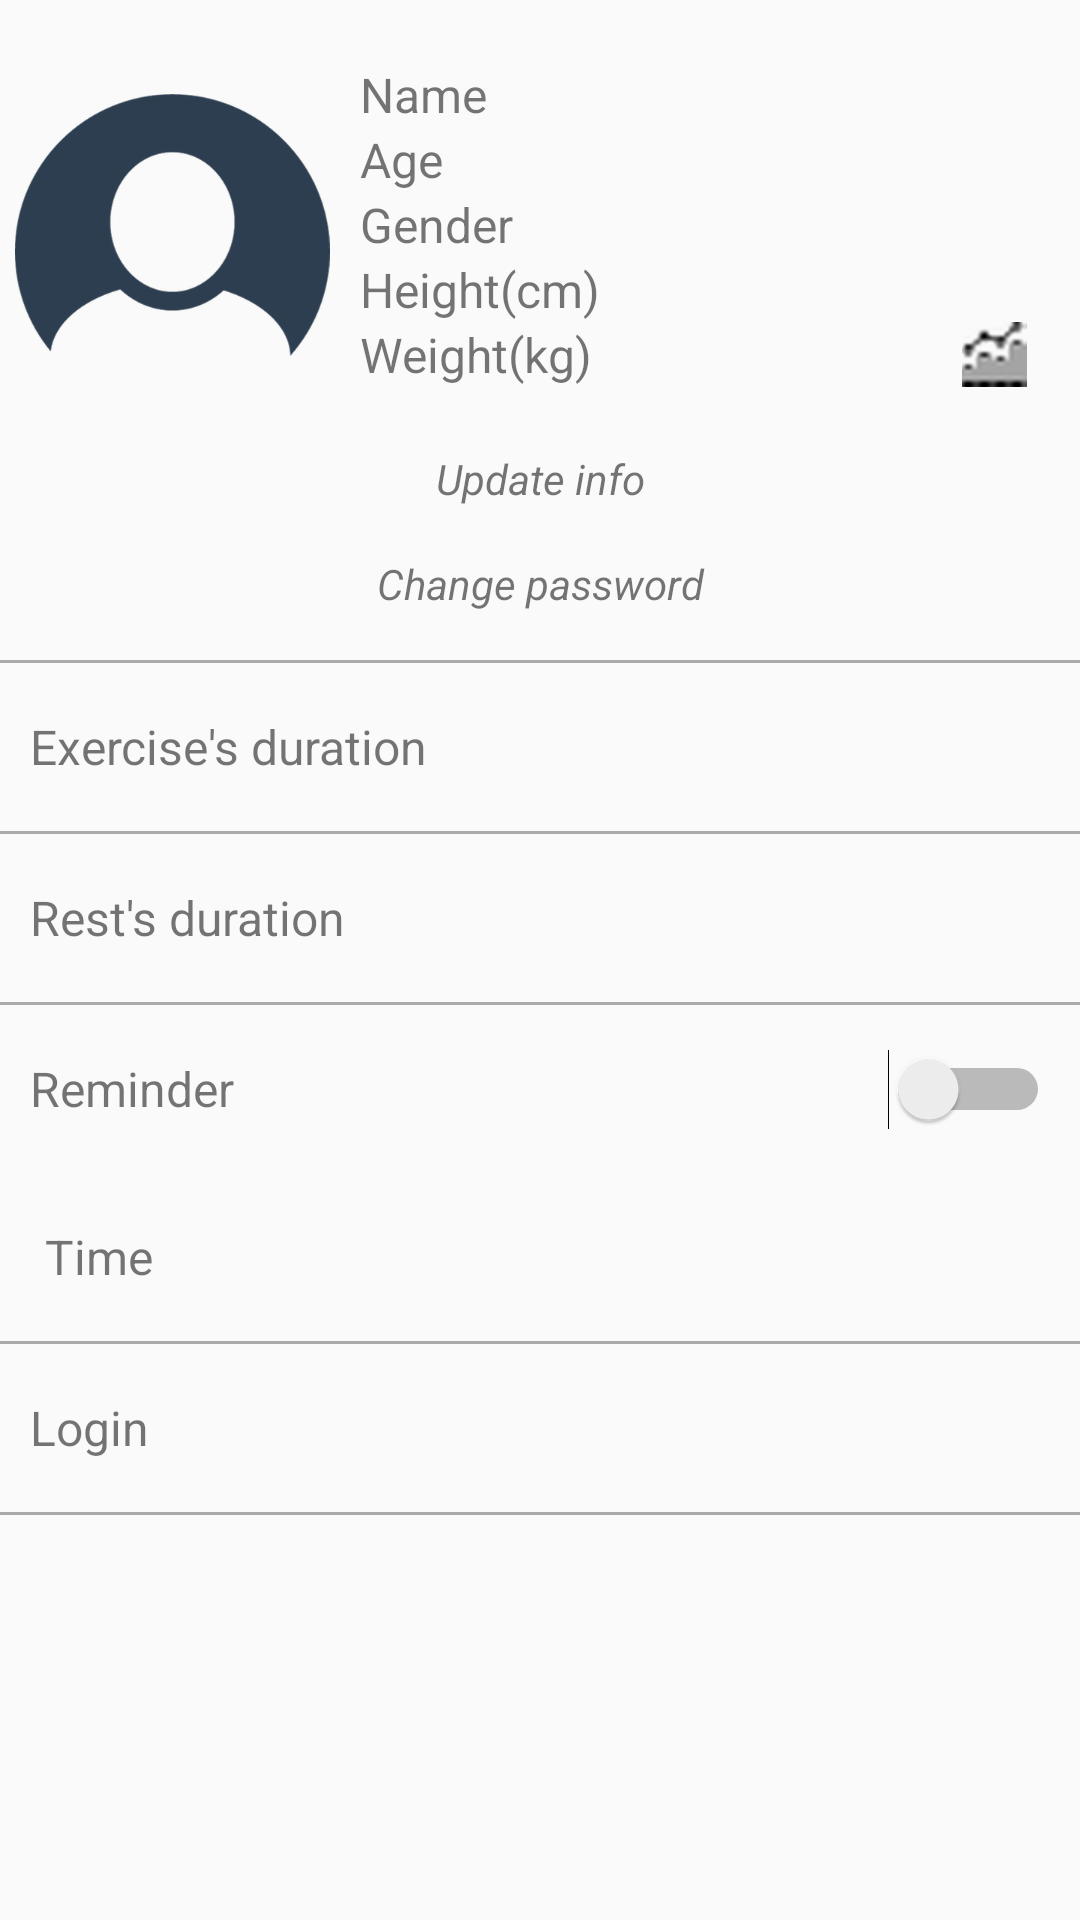

Icons on this 1080 × 1920 Android screen, each with its box as [left=x1, top=y1, right=x2, bottom=y2]:
analytics: [left=962, top=322, right=1027, bottom=387]
